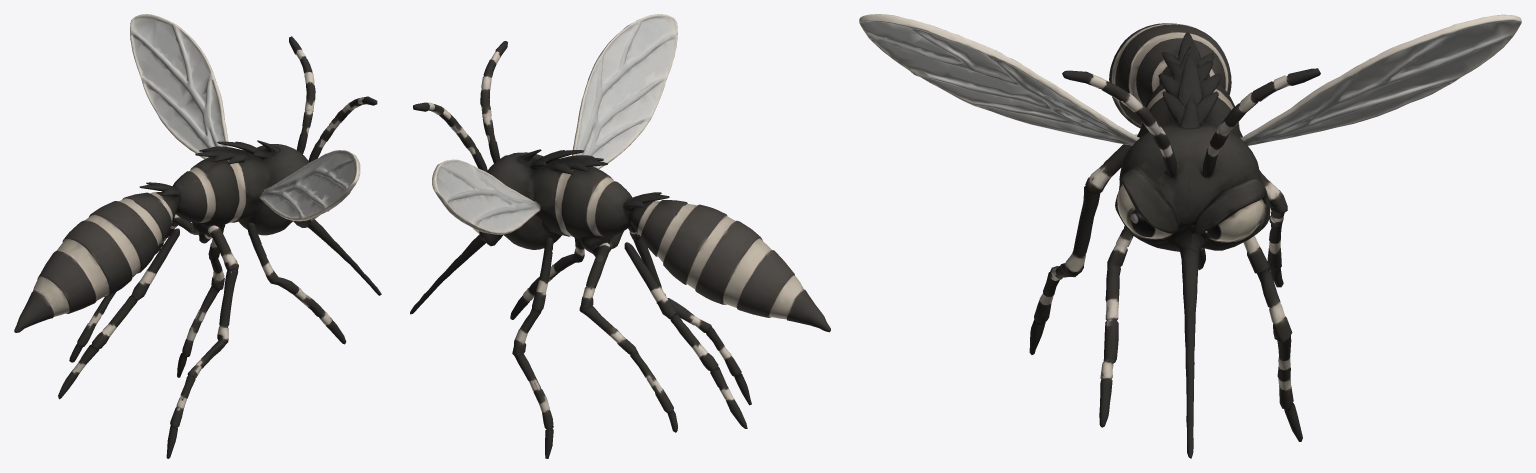
Rendered from denguin.glb.
3 renders of one model, left to right at view 1: azimuth 30°, elevation 25°; view 2: azimuth 150°, elevation 25°; view 3: azimuth 270°, elevation 25°, orthographic. The views are drawn at different scales.
Parts seen in each view (by area): view 1: tripo_node_bbc0b12f-8336-4865-a1ad-4c484d17970b; view 2: tripo_node_bbc0b12f-8336-4865-a1ad-4c484d17970b; view 3: tripo_node_bbc0b12f-8336-4865-a1ad-4c484d17970b.
Part boxes in pixels (x1=…): tripo_node_bbc0b12f-8336-4865-a1ad-4c484d17970b: x1=14, y1=14, x2=381, y2=458; tripo_node_bbc0b12f-8336-4865-a1ad-4c484d17970b: x1=410, y1=14, x2=830, y2=458; tripo_node_bbc0b12f-8336-4865-a1ad-4c484d17970b: x1=859, y1=14, x2=1521, y2=458.
Bounding box in the file's own units: 0.9878 × 0.7623 × 1.
Materials: 1 (1 with a texture image).
